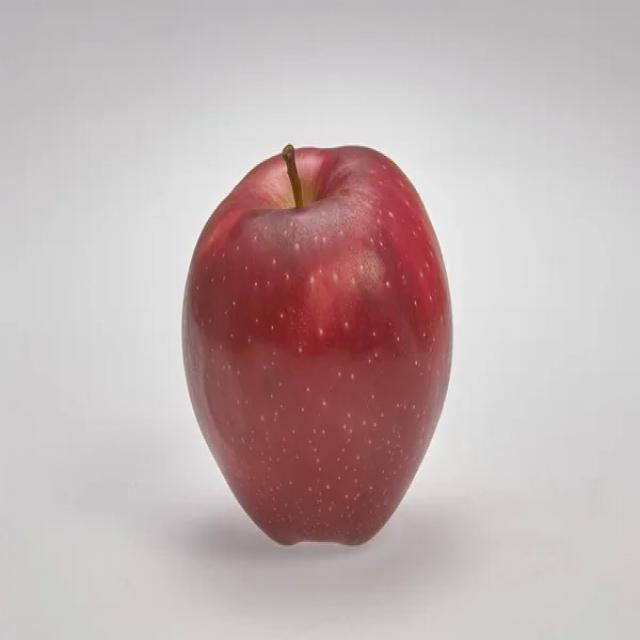Apple: (173, 137, 459, 551)
